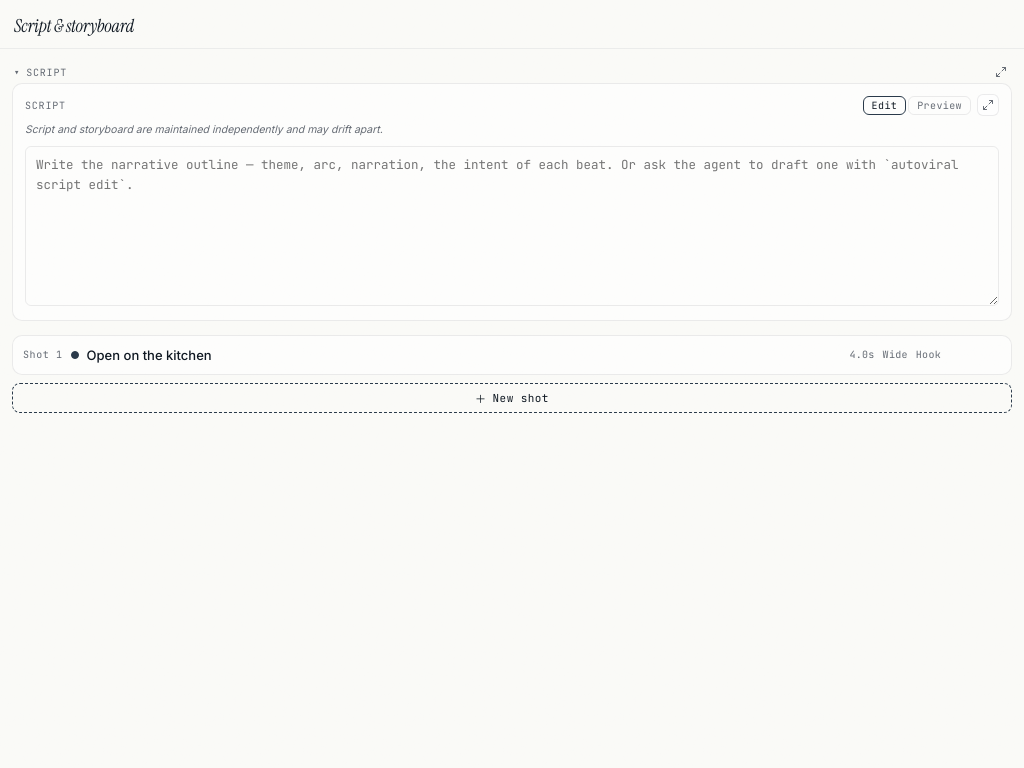
Test: ScriptTab (S3) — read-only storyboard cards › seeds the title control and renders a human-friendly shot number (order+1)
This screenshot has width=1024, height=768.
Click the button with aria-label "expand shot" at (43, 355), box [23,347,941,363]
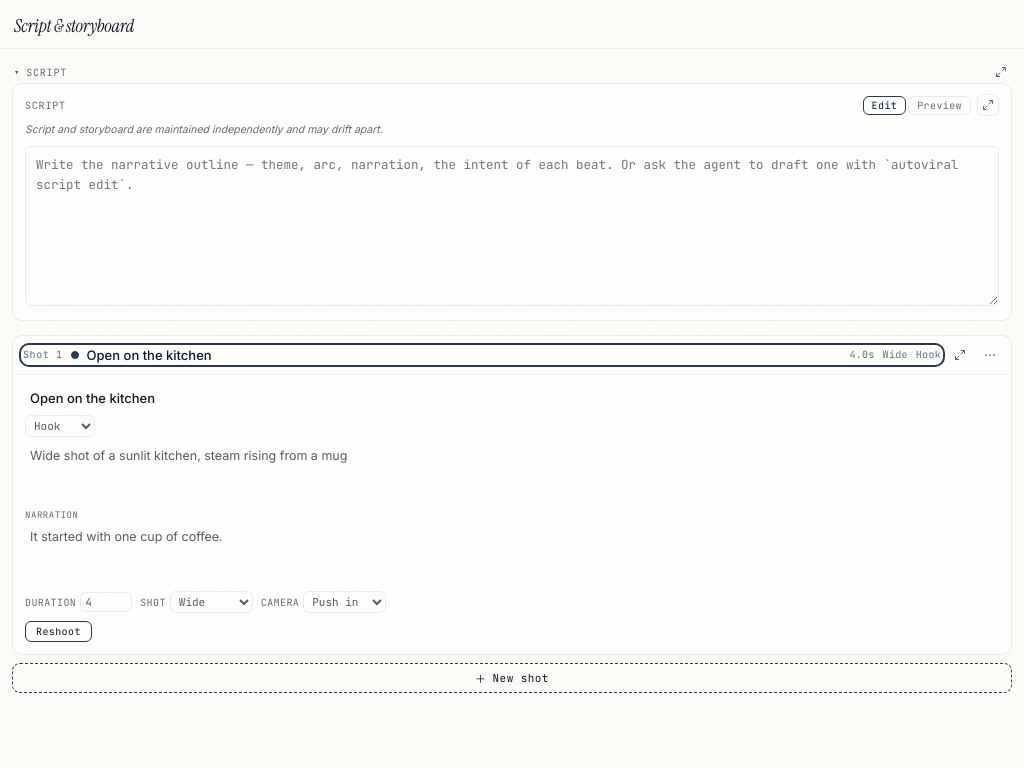
Expected: the text "Shot 1" is shown, [23,348,63,361]
Now the field named "Edit shot title" holds "Open on the kitchen", box [25,387,999,409]
